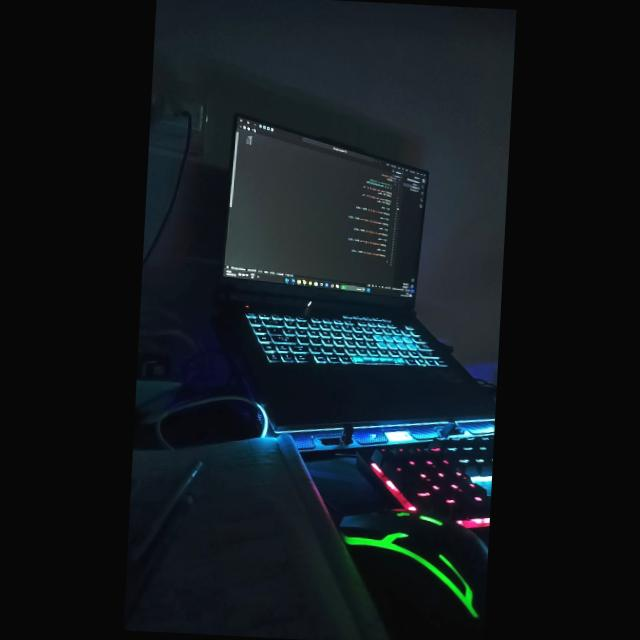laptop: (218, 113, 496, 446)
